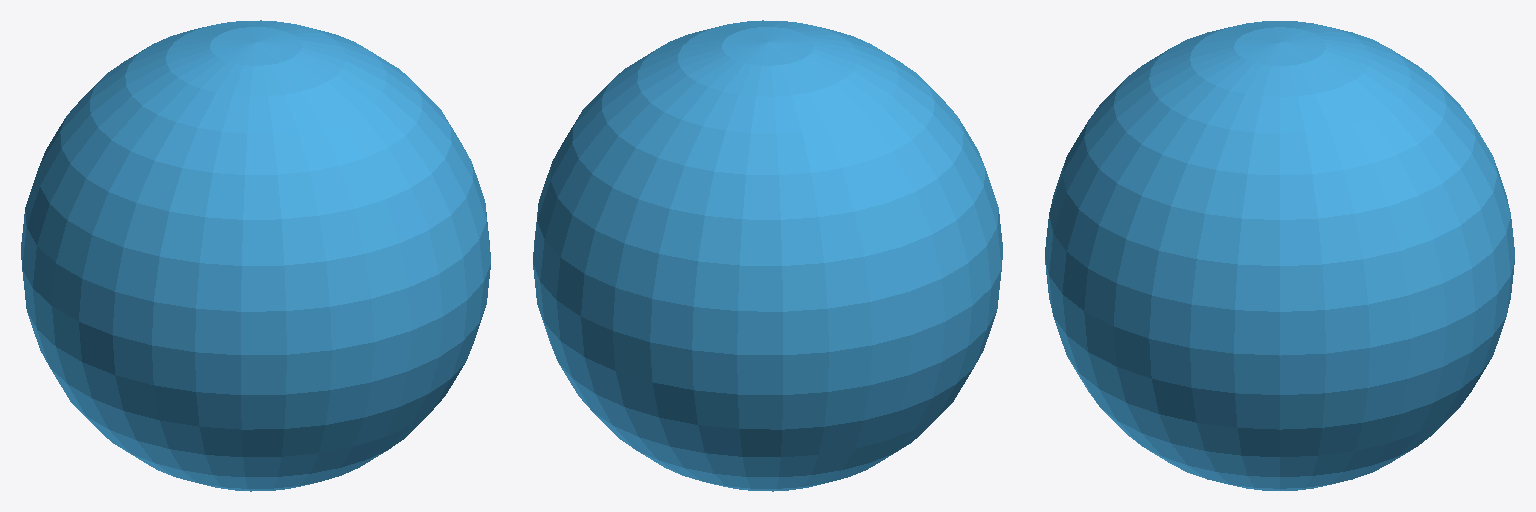
robot.urdf — light_room1:
<?xml version="1.0" ?>

<robot name="light_room1" xmlns:xi="http://www.w3.org/2001/XInclude"
	xmlns:gazebo="http://playerstage.sourceforge.net/gazebo/xmlschema/#gz"
	xmlns:model="http://playerstage.sourceforge.net/gazebo/xmlschema/#model"
	xmlns:sensor="http://playerstage.sourceforge.net/gazebo/xmlschema/#sensor"
	xmlns:body="http://playerstage.sourceforge.net/gazebo/xmlschema/#body"
	xmlns:geom="http://playerstage.sourceforge.net/gazebo/xmlschema/#geom"
	xmlns:joint="http://playerstage.sourceforge.net/gazebo/xmlschema/#joint"
	xmlns:interface="http://playerstage.sourceforge.net/gazebo/xmlschema/#interface"
	xmlns:rendering="http://playerstage.sourceforge.net/gazebo/xmlschema/#rendering"
	xmlns:renderable="http://playerstage.sourceforge.net/gazebo/xmlschema/#renderable"
	xmlns:controller="http://playerstage.sourceforge.net/gazebo/xmlschema/#controller"
	xmlns:physics="http://playerstage.sourceforge.net/gazebo/xmlschema/#physics">

<link name="world"/>
<joint name="door_doorhandelfront" type="fixed">
        <axis xyz="0 0 1" />
        <parent link="world" />
        <child link="bulb_r1" />
        <origin rpy="0 0 0" xyz="0 0 8" />
    </joint>
  <link name="bulb_r1">
   <inertial>
	<mass value=".1" />
			<inertia ixx="1" ixy="0.0" ixz="0.0" iyy="1" iyz="0.0" izz="1" />
		</inertial>

		<visual>
			<origin xyz="0 0 8" rpy="0 0 0" />  <!--   definition of the visual postion of the object!! -->
			<geometry>
				<sphere radius="0.1" />
			</geometry>
		</visual>
		<collision>
			<origin xyz="0 0 8" rpy="0 0 0" />
			<geometry>
				<sphere radius="0.1" />
			</geometry>
		</collision>
	</link>

	<gazebo reference="bulb_r1">
			<material>Gazebo/LightOn</material>
        <laserRetro>2000</laserRetro>
        <dampingFactor>0.006</dampingFactor>
        <selfCollide>false</selfCollide>
        <turnGravityOff>true</turnGravityOff>
	</gazebo>
</robot>

--- Render facts (derived) ---
3 views of the same robot in one strip: view 1: azimuth 30°, elevation 25°; view 2: azimuth 150°, elevation 25°; view 3: azimuth 270°, elevation 25° (orthographic).
Model light_room1 with 2 links and 1 joints (1 fixed), rooted at world, posed all joints at 0.
Links seen in each view (by area): view 1: bulb_r1; view 2: bulb_r1; view 3: bulb_r1.
Link boxes in pixels (left/top/right/bottom): bulb_r1: left=21, top=20, right=490, bottom=491; bulb_r1: left=533, top=20, right=1002, bottom=491; bulb_r1: left=1045, top=21, right=1514, bottom=490.
Size in the robot's own frame: 0.2 by 0.2 by 0.2 metres.
Geometry: primitives only (box / cylinder / sphere), no mesh files.